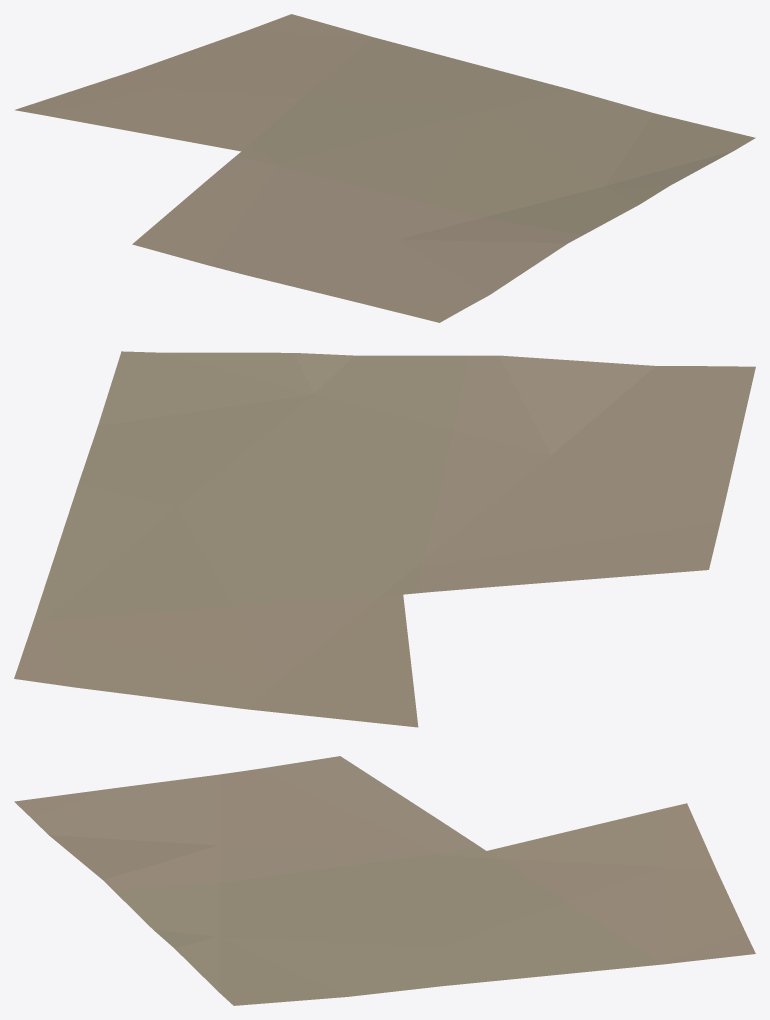
Rendered from farm_-23_-29_soil.glb.
The picture shows the model from 3 angles, top to bottom: view 1: azimuth 30°, elevation 25°; view 2: azimuth 150°, elevation 25°; view 3: azimuth 270°, elevation 25°; orthographic projection. The views are drawn at different scales.
Visible parts, largest first — view 1: geometry_0; view 2: geometry_0; view 3: geometry_0.
Part boxes in pixels (x1=…): geometry_0: x1=14, y1=14, x2=755, y2=322; geometry_0: x1=14, y1=351, x2=755, y2=727; geometry_0: x1=14, y1=756, x2=755, y2=1005.
Bounding box in the file's own units: 220 × 16.07 × 267.
